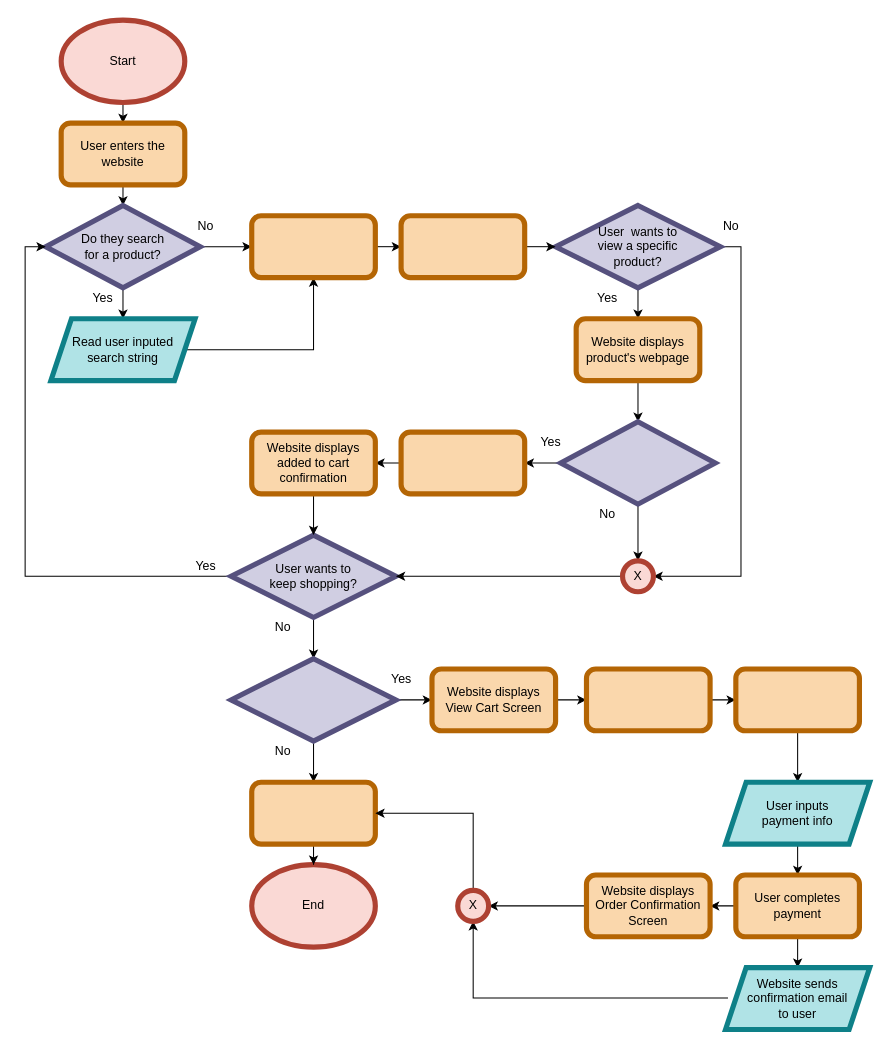
This 890x1050 diagram has some shape labels left out. Each missing label, with the centre of its shape:
"User adds item to their cart?" goes at (x=637, y=462).
"User explores products" goes at (x=462, y=246).
"User goes to View Payment Screen" goes at (x=647, y=699).
"User leaves the website" goes at (x=313, y=812).
"User wants to check out?" goes at (x=313, y=699).
"Website adds item to cart" goes at (x=462, y=462).
"Website displays products" goes at (x=313, y=246).
"Website displays View Payment Screen" goes at (x=797, y=699).
